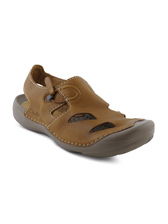shoes: (8, 68, 159, 162)
